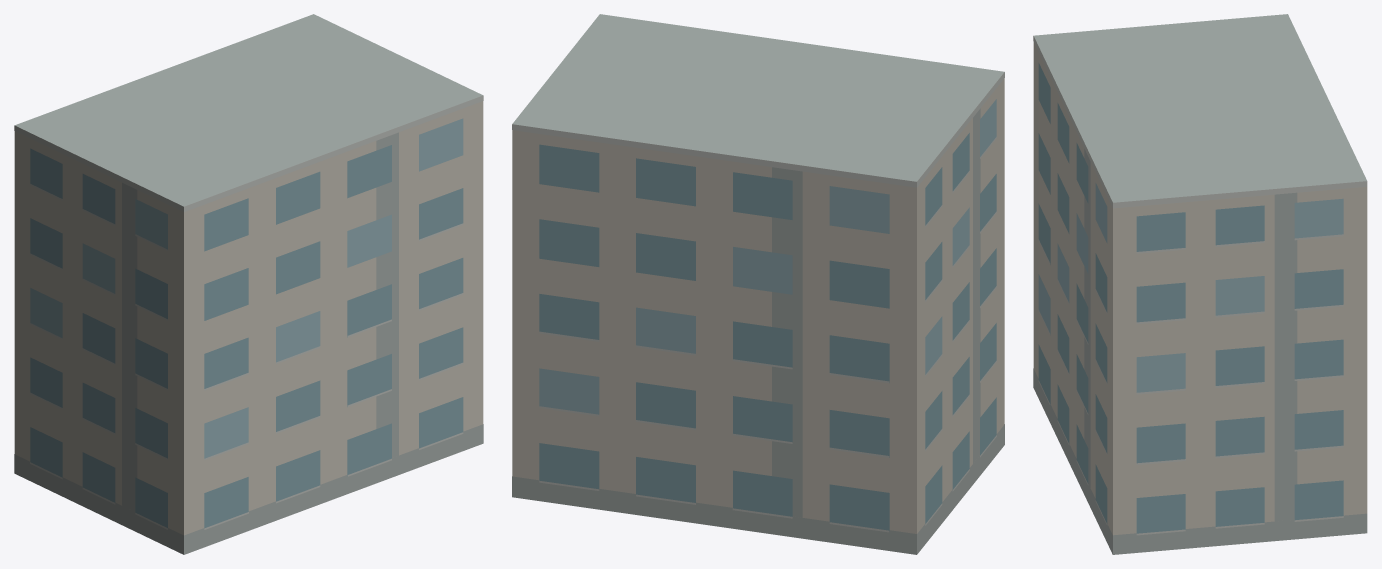
The model's file is residential-6c55fb09-b9e8-4ec3-8f35-b0cf75723869.glb.
3 renders of one model, left to right at view 1: azimuth 30°, elevation 25°; view 2: azimuth 150°, elevation 25°; view 3: azimuth 270°, elevation 25°, orthographic. The views are drawn at different scales.
Visible parts, largest first — view 1: residential-6c55fb09-b9e8-4ec3-8f35-b0cf75723869.tmp; view 2: residential-6c55fb09-b9e8-4ec3-8f35-b0cf75723869.tmp; view 3: residential-6c55fb09-b9e8-4ec3-8f35-b0cf75723869.tmp.
Part boxes in pixels (x1,y1,x2,y2): residential-6c55fb09-b9e8-4ec3-8f35-b0cf75723869.tmp: [14, 14, 483, 554]; residential-6c55fb09-b9e8-4ec3-8f35-b0cf75723869.tmp: [512, 14, 1004, 554]; residential-6c55fb09-b9e8-4ec3-8f35-b0cf75723869.tmp: [1033, 14, 1367, 554].
Bounding box in the file's own units: 17.54 × 15.25 × 13.11.
